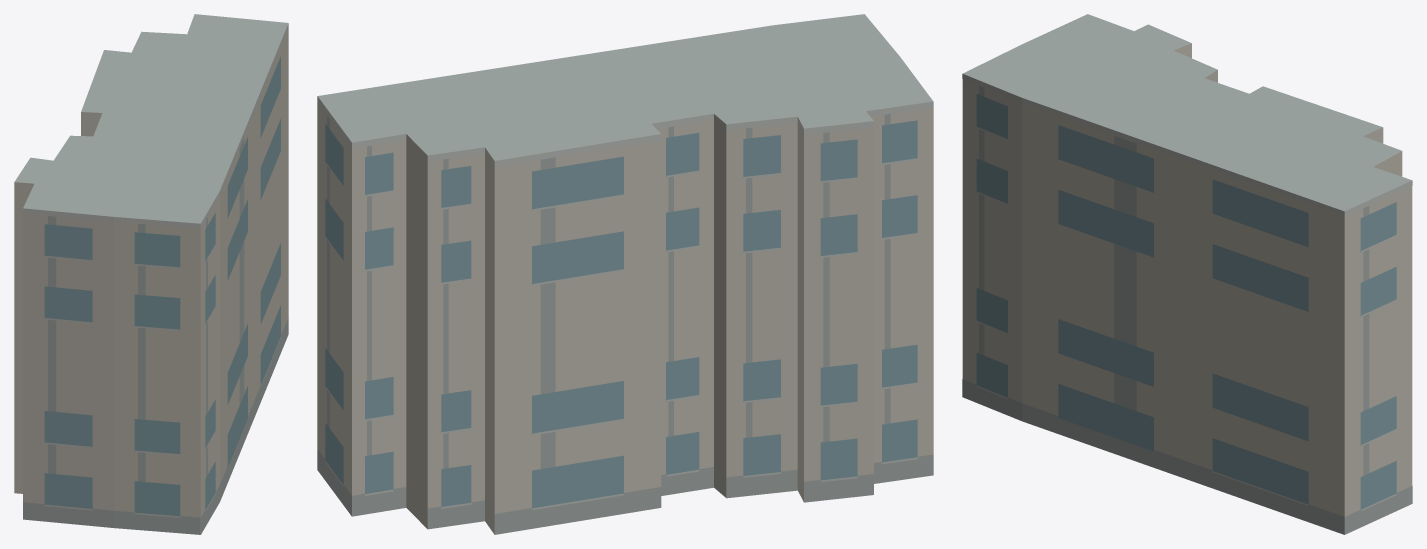
File: survey-upis-32759724.glb
3 views of the same model, side by side, from view 1: azimuth 30°, elevation 25°; view 2: azimuth 150°, elevation 25°; view 3: azimuth 270°, elevation 25° (orthographic). The views are drawn at different scales.
Visible parts, largest first — view 1: survey-upis-32759724.tmp; view 2: survey-upis-32759724.tmp; view 3: survey-upis-32759724.tmp.
Part boxes in pixels (x1,y1,x2,y2): survey-upis-32759724.tmp: [14, 14, 288, 534]; survey-upis-32759724.tmp: [317, 14, 933, 534]; survey-upis-32759724.tmp: [962, 14, 1412, 534].
Size of the model in its own units: 19.12 by 14.6 by 18.41.
